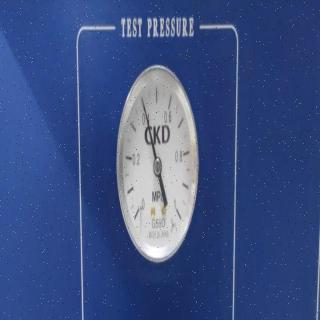gauge: (111, 57, 207, 270), (129, 202, 147, 226), (170, 206, 190, 226), (152, 154, 164, 178), (138, 95, 146, 109)
